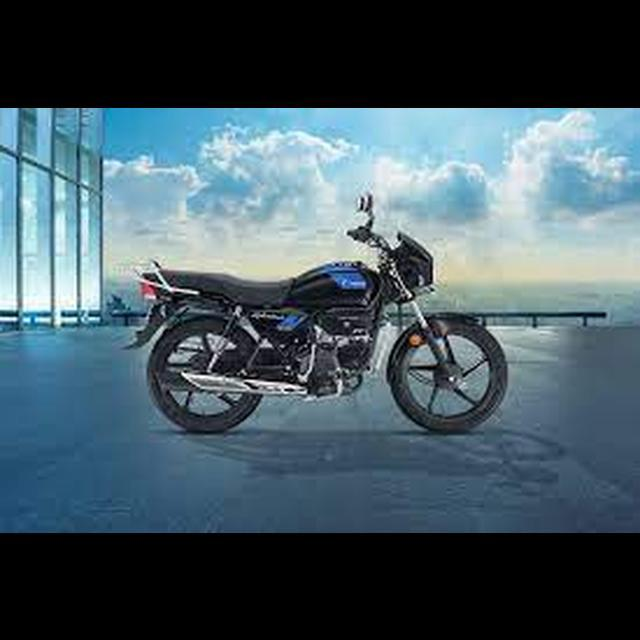motorcycle: (117, 189, 513, 440)
